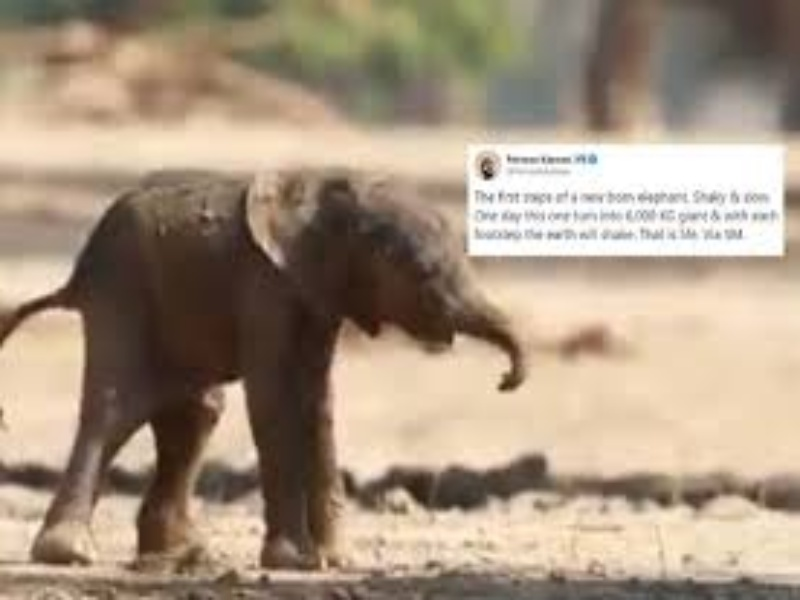elephant: (37, 127, 535, 577)
